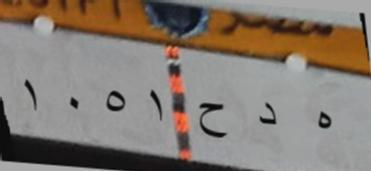0: (63, 90, 84, 116)
1: (20, 73, 42, 119), (145, 82, 166, 123)
5: (97, 85, 130, 122)
7aa: (196, 95, 230, 143)
daal: (252, 96, 282, 136)
haa: (309, 104, 335, 138)
